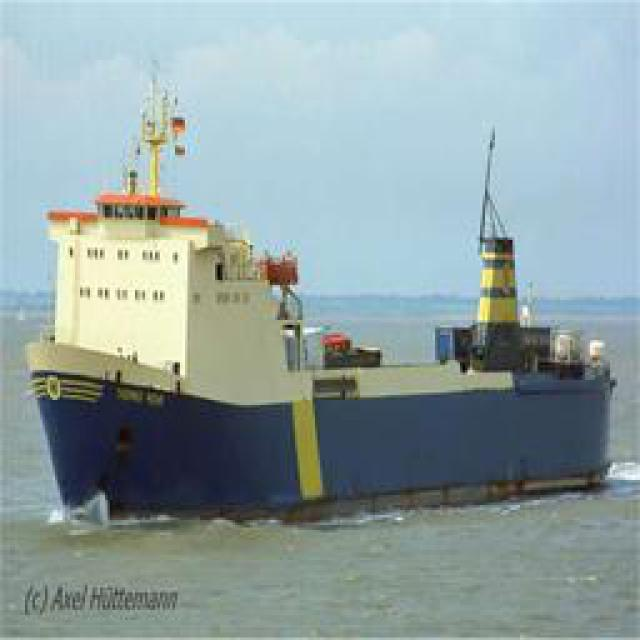Ship: (26, 64, 628, 531)
